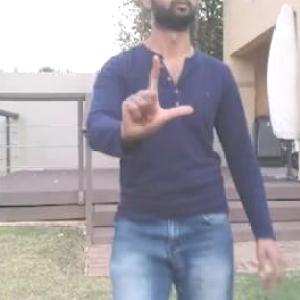land_hand: (115, 44, 195, 144)
